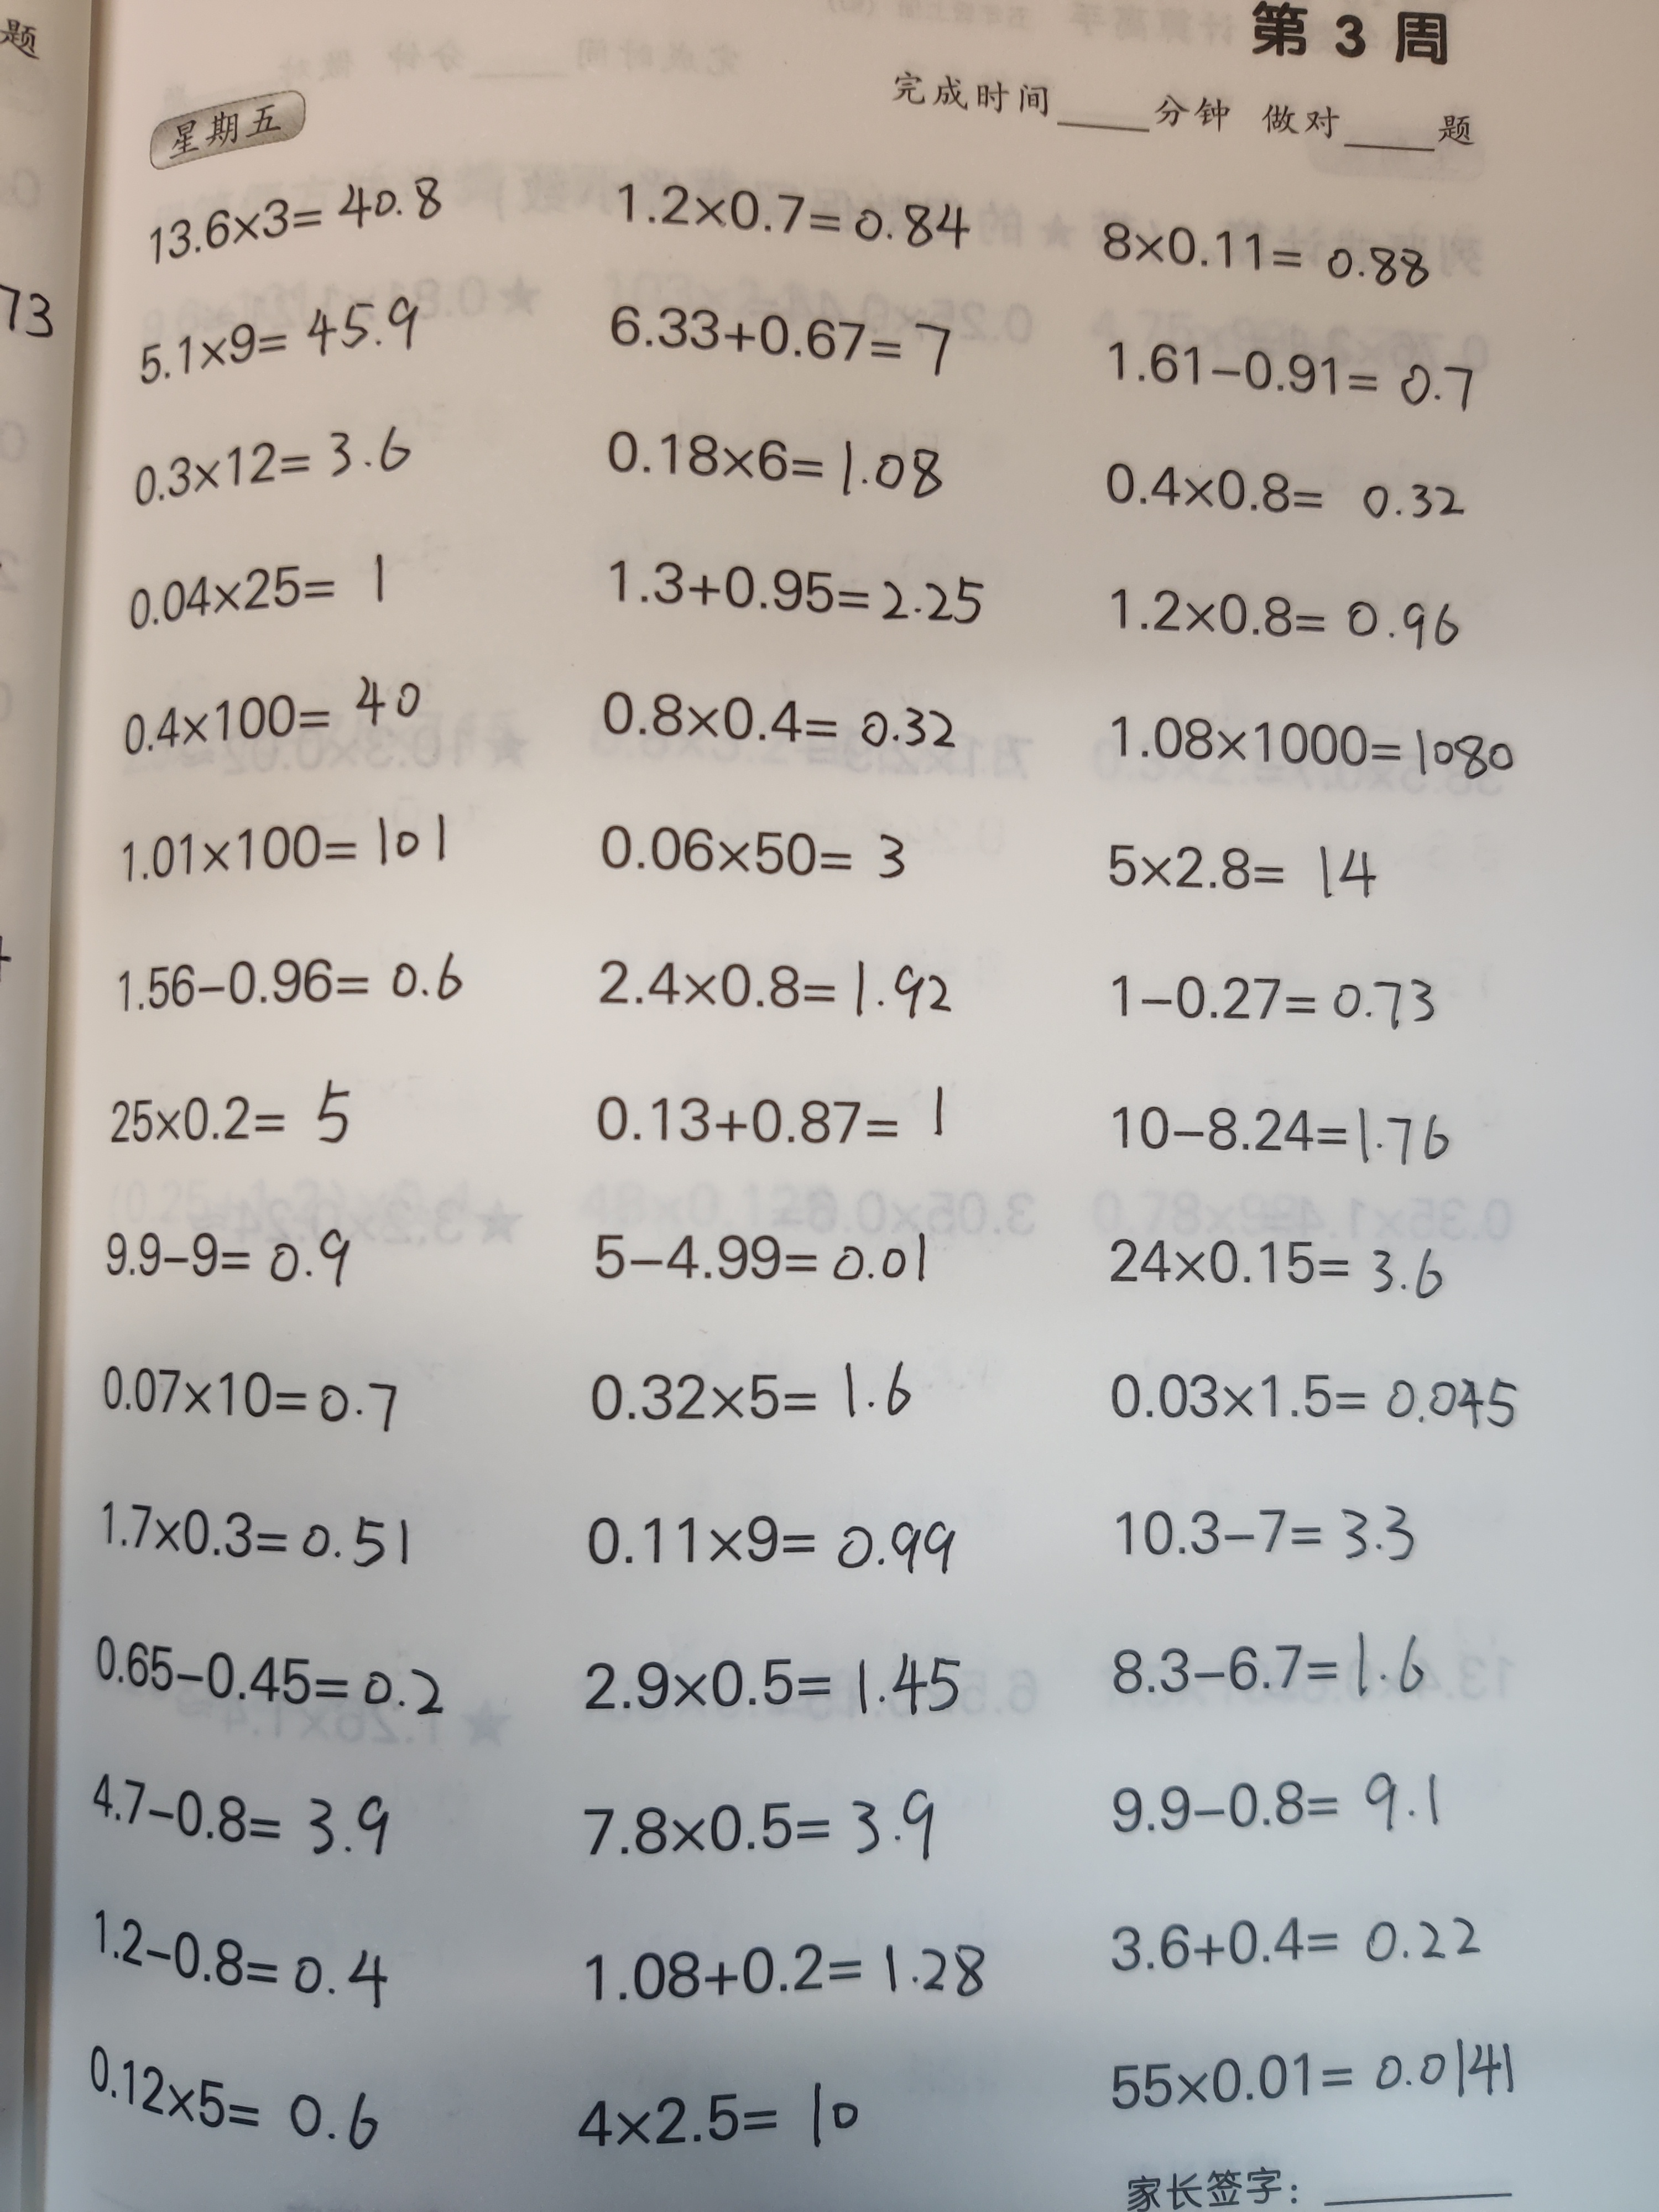equation: (1098, 693, 1523, 808), (84, 1609, 451, 1738), (561, 1491, 971, 1604), (570, 1635, 971, 1749), (1087, 2024, 1535, 2121), (599, 153, 985, 266), (575, 1921, 995, 2024), (1086, 1346, 1528, 1442), (592, 543, 1018, 643), (80, 2036, 396, 2168), (587, 935, 965, 1045), (1094, 329, 1486, 430), (1087, 1214, 1453, 1322), (594, 291, 962, 397), (1093, 1080, 1460, 1184), (1093, 192, 1436, 303), (573, 1341, 927, 1449), (1098, 564, 1481, 664), (582, 1069, 971, 1167), (87, 1897, 401, 2017), (87, 1756, 404, 1872), (599, 416, 958, 519), (579, 1784, 946, 1883), (1094, 1623, 1453, 1724), (99, 808, 471, 906), (1093, 1897, 1499, 1984), (110, 665, 444, 770), (579, 1212, 939, 1308), (1098, 946, 1445, 1045), (87, 1352, 427, 1453), (591, 801, 931, 902), (101, 941, 477, 1031), (120, 286, 436, 394), (87, 1486, 423, 1587), (586, 678, 962, 766), (1087, 456, 1473, 542), (1100, 1486, 1427, 1585), (132, 169, 455, 266), (1093, 1764, 1453, 1851), (563, 2073, 882, 2163), (118, 543, 403, 644), (92, 1221, 376, 1320), (120, 423, 429, 514), (94, 1075, 375, 1169), (1094, 833, 1389, 911)
